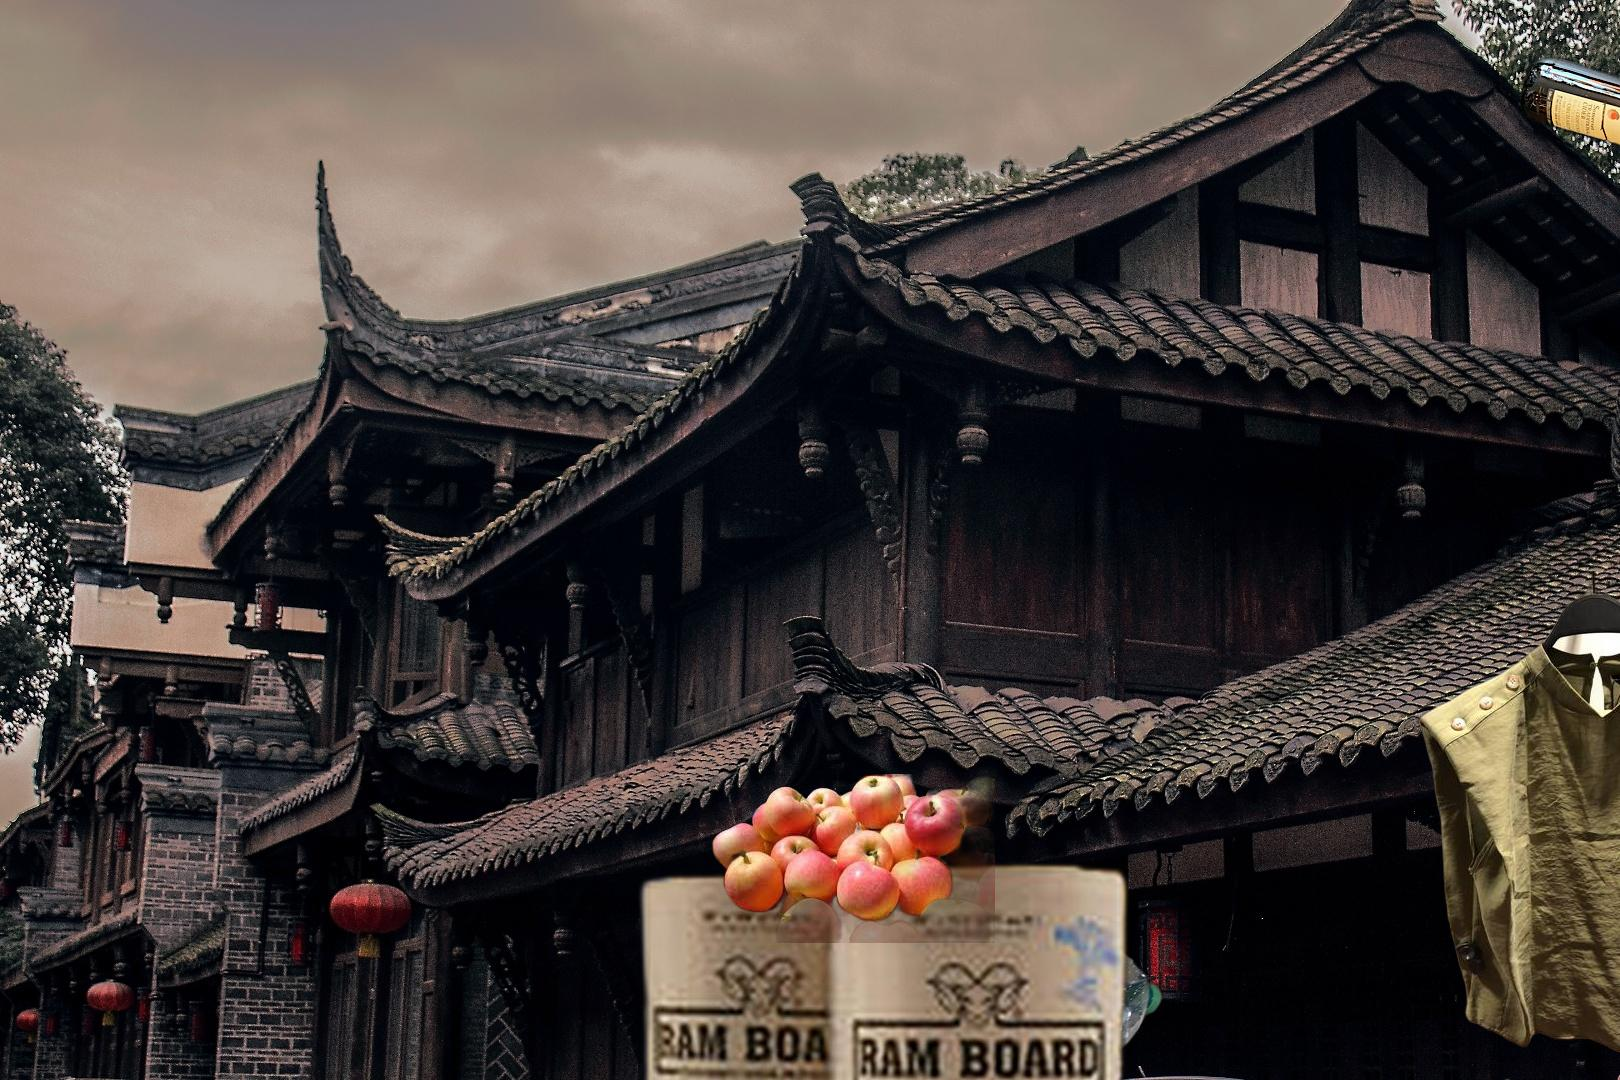biological: (695, 774, 994, 943), (1606, 1010, 1620, 1080)
clothes: (1417, 571, 1620, 1080)
glass: (1516, 51, 1620, 163)
penholder: (1479, 1066, 1620, 1080)
plastic-bag: (1009, 931, 1135, 984)
plastic-bottles: (834, 931, 1273, 1080)
trashbox-cardboard: (630, 645, 1620, 1080)
